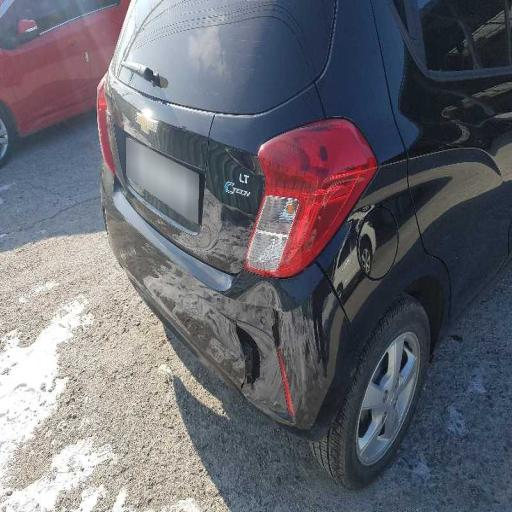broken: (218, 289, 275, 406)
scratch: (160, 177, 324, 440), (118, 93, 194, 166)
